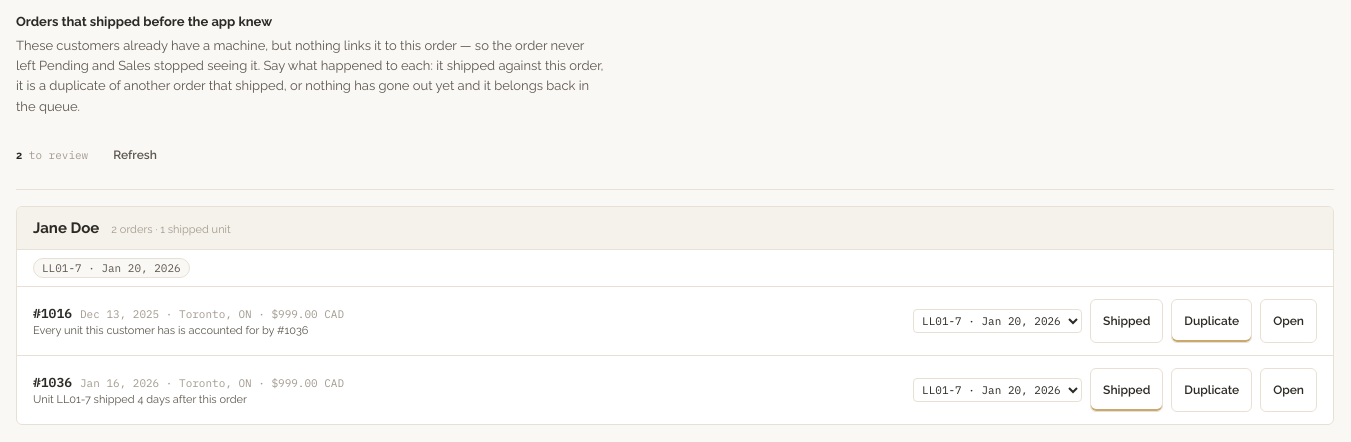
Test: Reconcile › leaves an order open and says it is back in Sales
Click the button "Open" in the row of "Dec 13, 2025".
click(1289, 321)  # box [1260,299,1317,343]
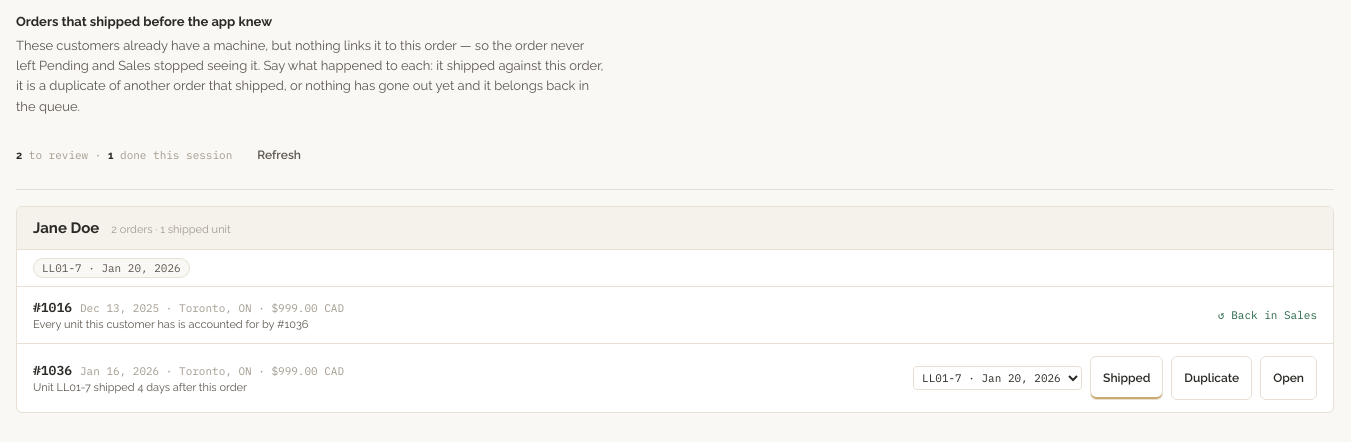
expect the text "↺ Back in Sales" is shown: met, box [1218,308,1317,322]
